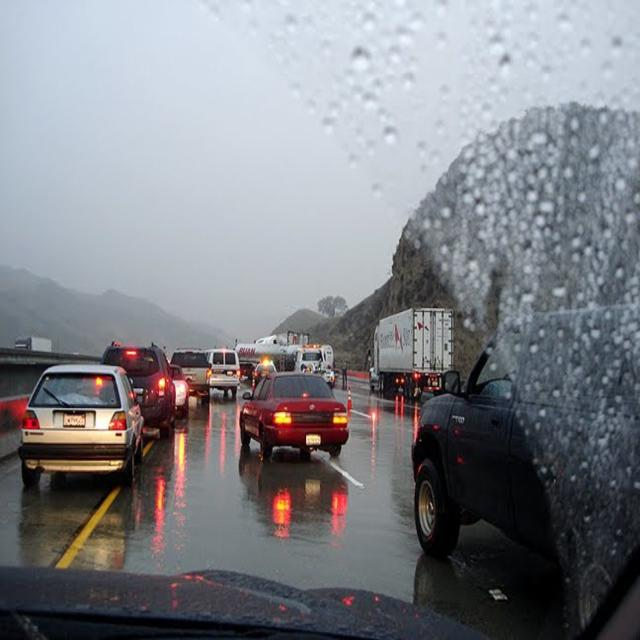bus: (367, 308, 455, 403), (294, 347, 333, 385)
car: (410, 303, 633, 625), (18, 366, 142, 488), (240, 370, 350, 461), (101, 343, 179, 435), (172, 348, 212, 404), (210, 349, 238, 398), (167, 367, 189, 420)
